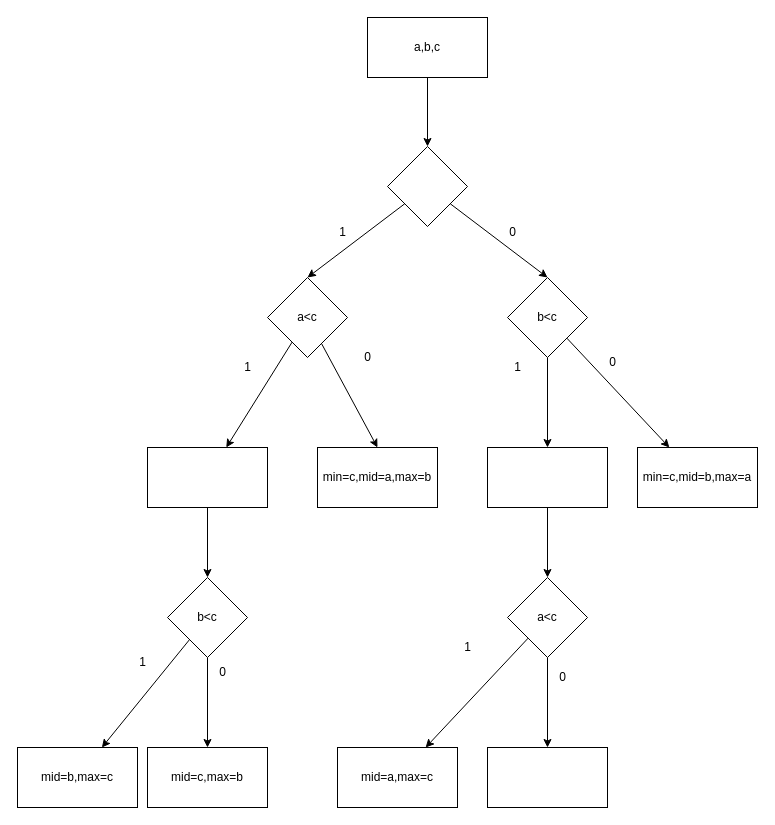
The diagram is 775 pixels wide and 825 high, and some of its shapes have lost their labels. Each missing label, with the box of its shape:
a<b: (386, 146, 468, 226)
min=a: (146, 446, 268, 508)
min=b: (486, 446, 608, 508)
